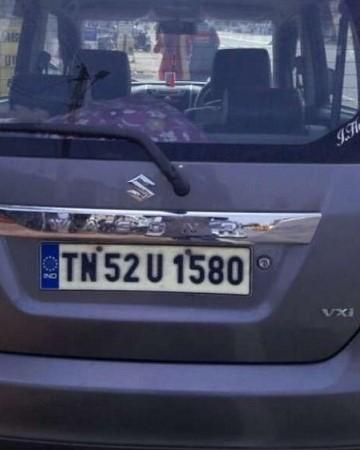License-Plate: (46, 240, 256, 296)
